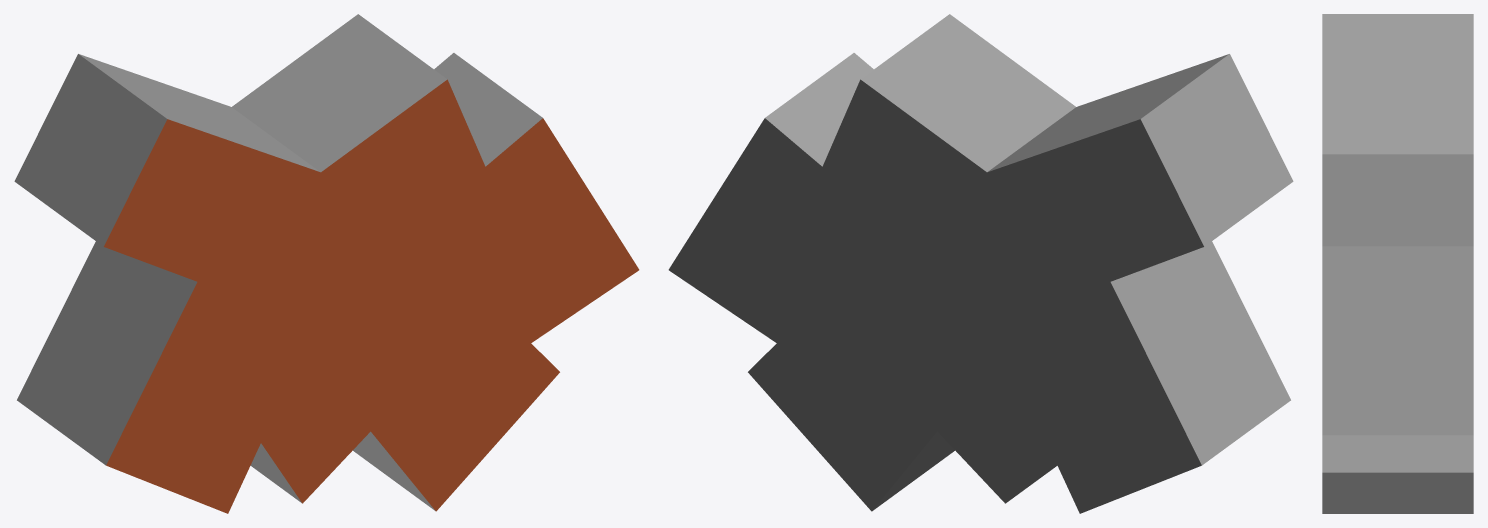
The model's file is construction_4772_assumed_A_Casa_h6m.obj.
The picture shows the model from 3 angles, left to right: view 1: azimuth 30°, elevation 25°; view 2: azimuth 150°, elevation 25°; view 3: azimuth 270°, elevation 25°; orthographic projection. The views are drawn at different scales.
Parts seen in each view (by area): view 1: construction_4772_assumed_A_Casa; view 2: construction_4772_assumed_A_Casa; view 3: construction_4772_assumed_A_Casa.
Part boxes in pixels (left/top/right/bottom): construction_4772_assumed_A_Casa: left=14, top=14, right=639, bottom=513; construction_4772_assumed_A_Casa: left=668, top=14, right=1293, bottom=513; construction_4772_assumed_A_Casa: left=1322, top=14, right=1473, bottom=513.
Bounding box in the file's own units: 20.78 × 16.98 × 6.
